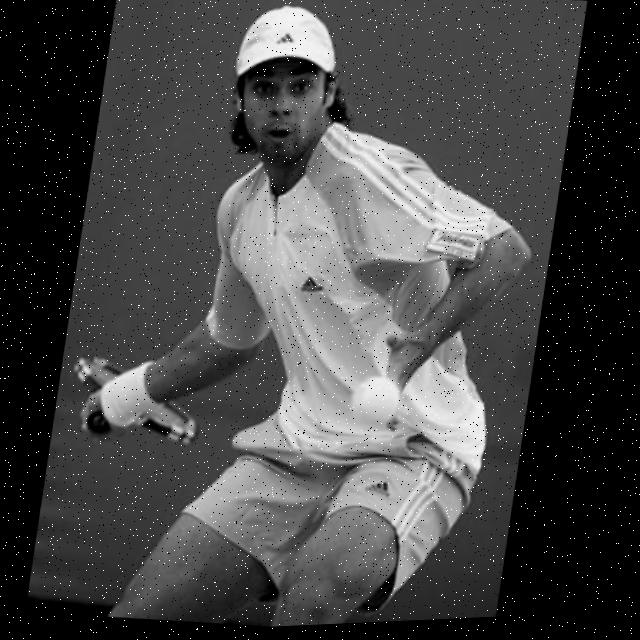face: (228, 47, 356, 180)
